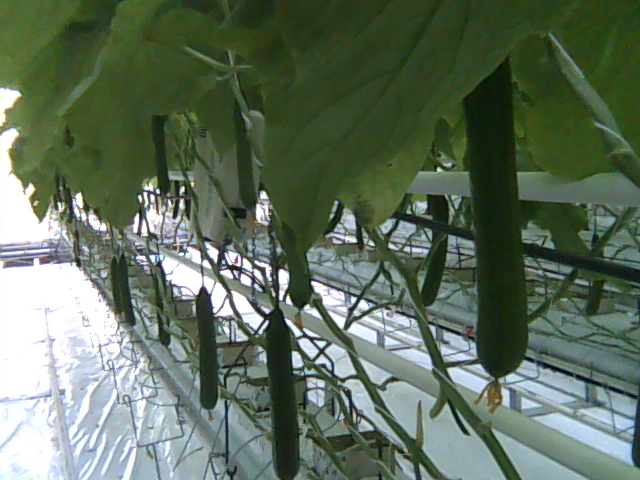concombre: (460, 51, 534, 420), (258, 301, 302, 480)
